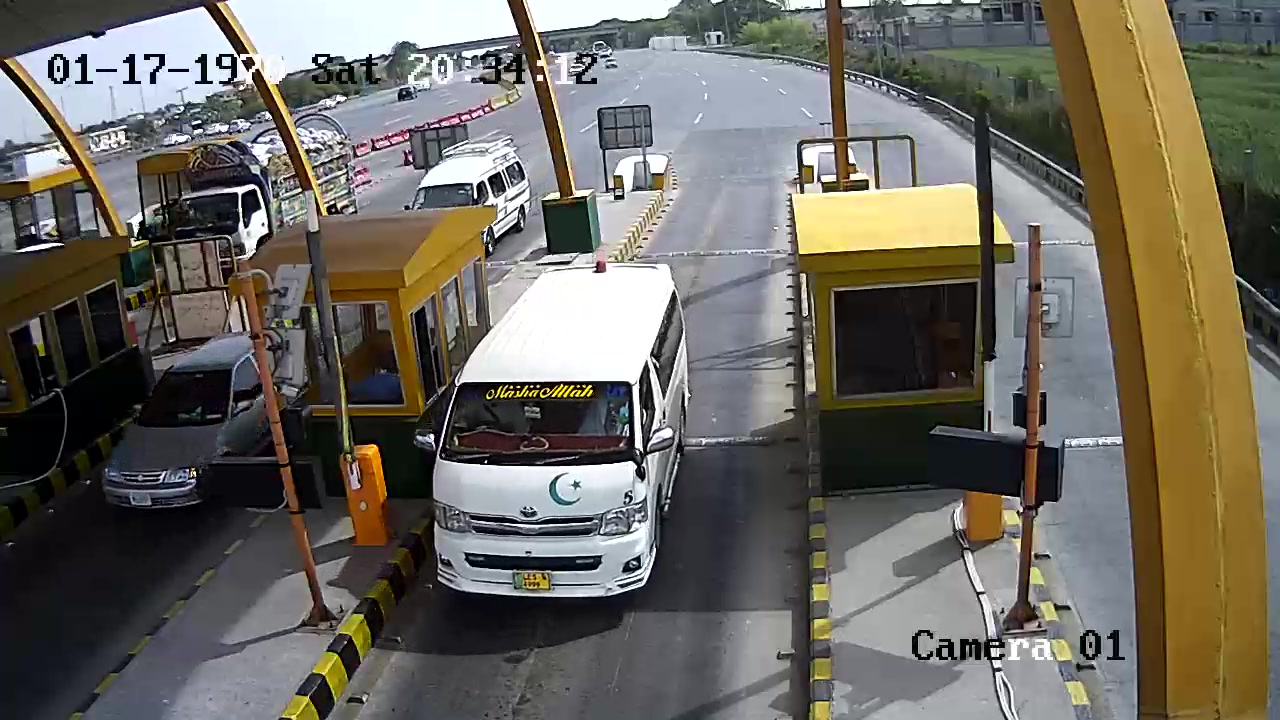F3: (401, 257, 723, 646)
